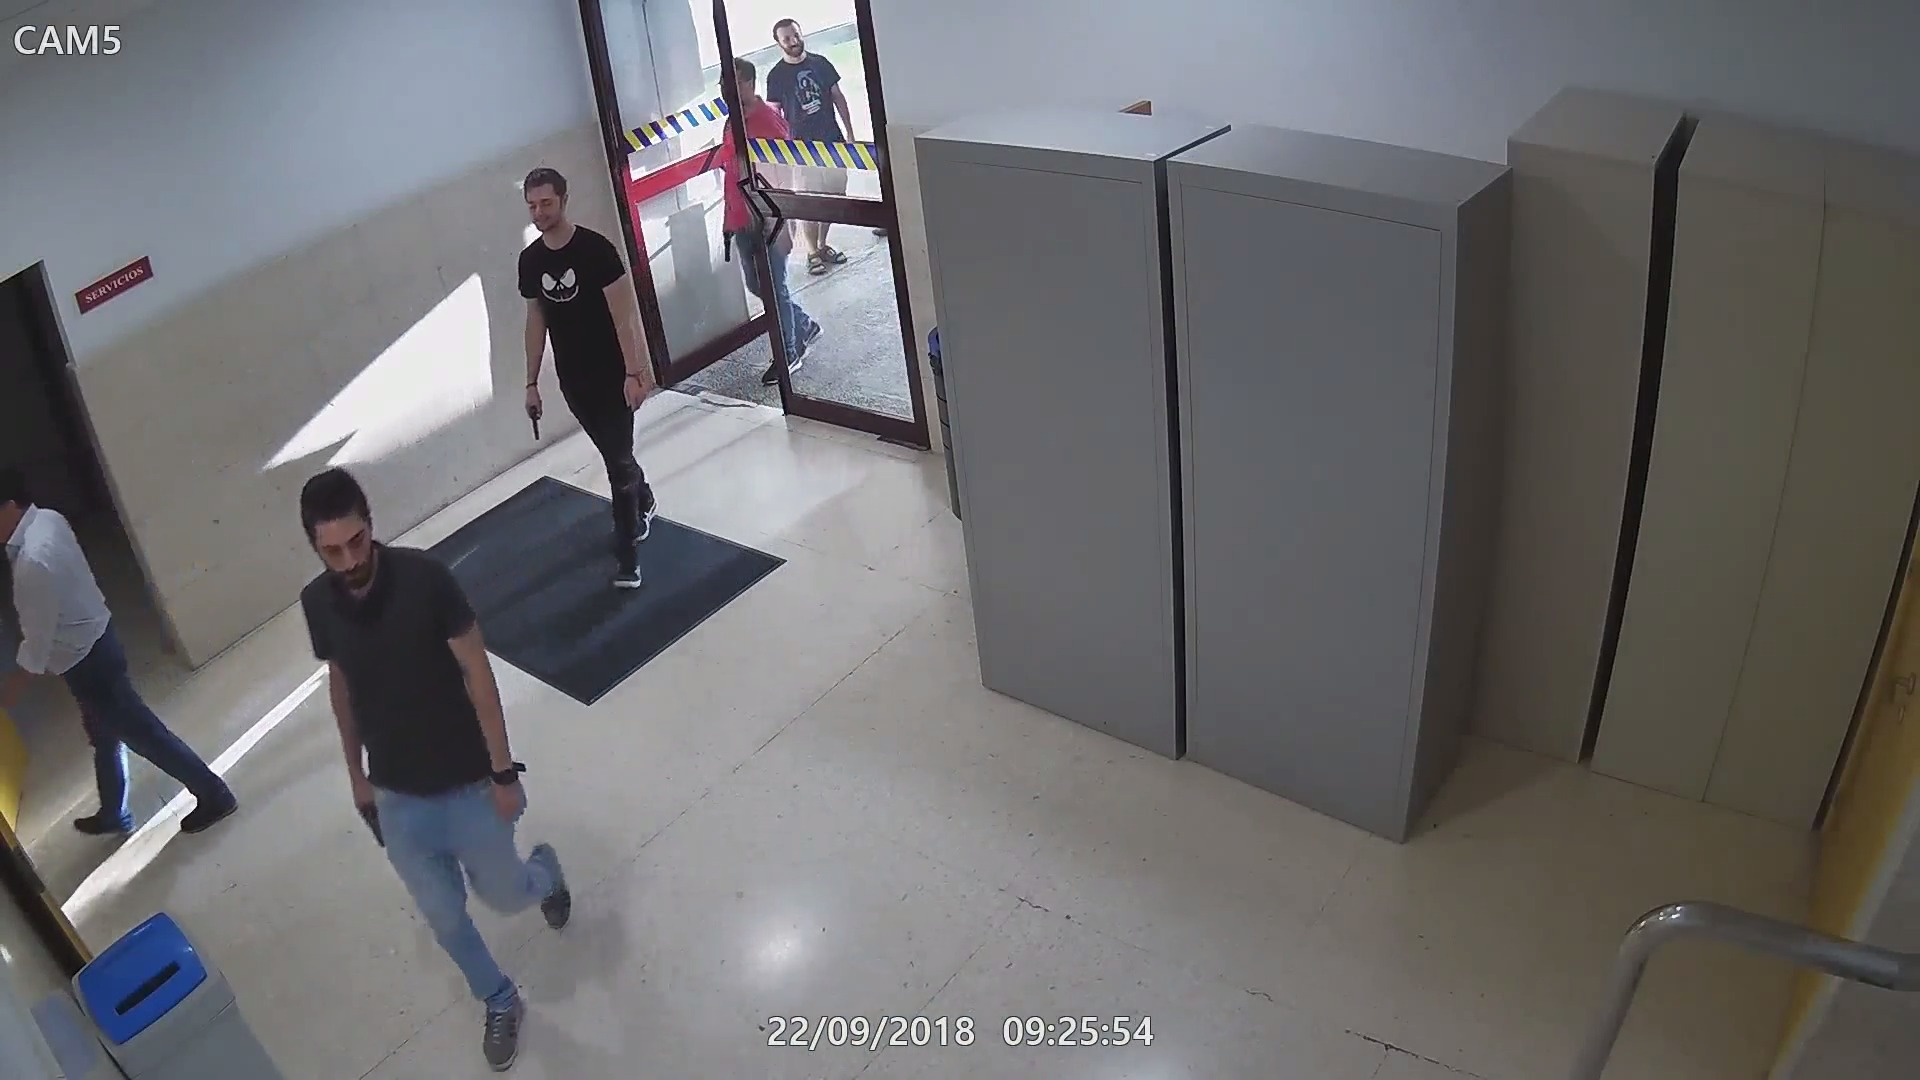Handgun: (342, 766, 392, 855), (520, 378, 551, 442), (715, 214, 741, 261)
